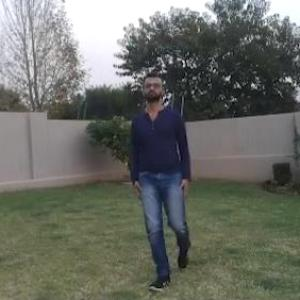follow: (128, 64, 193, 280)
